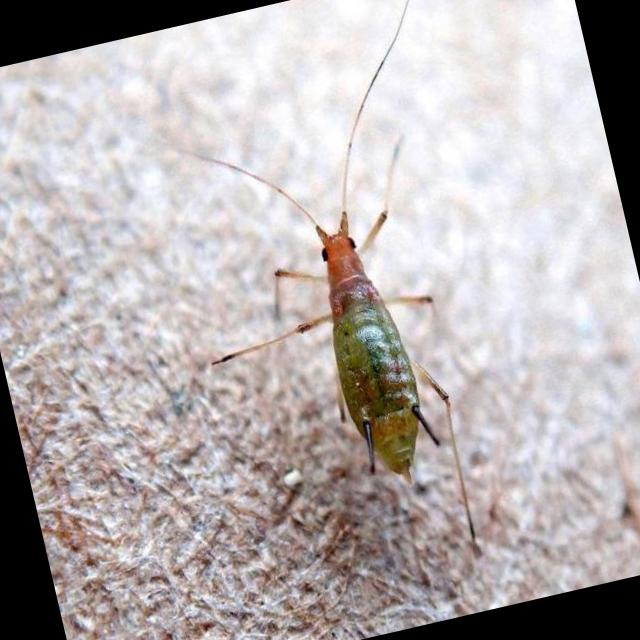aphid: (131, 9, 535, 579)
